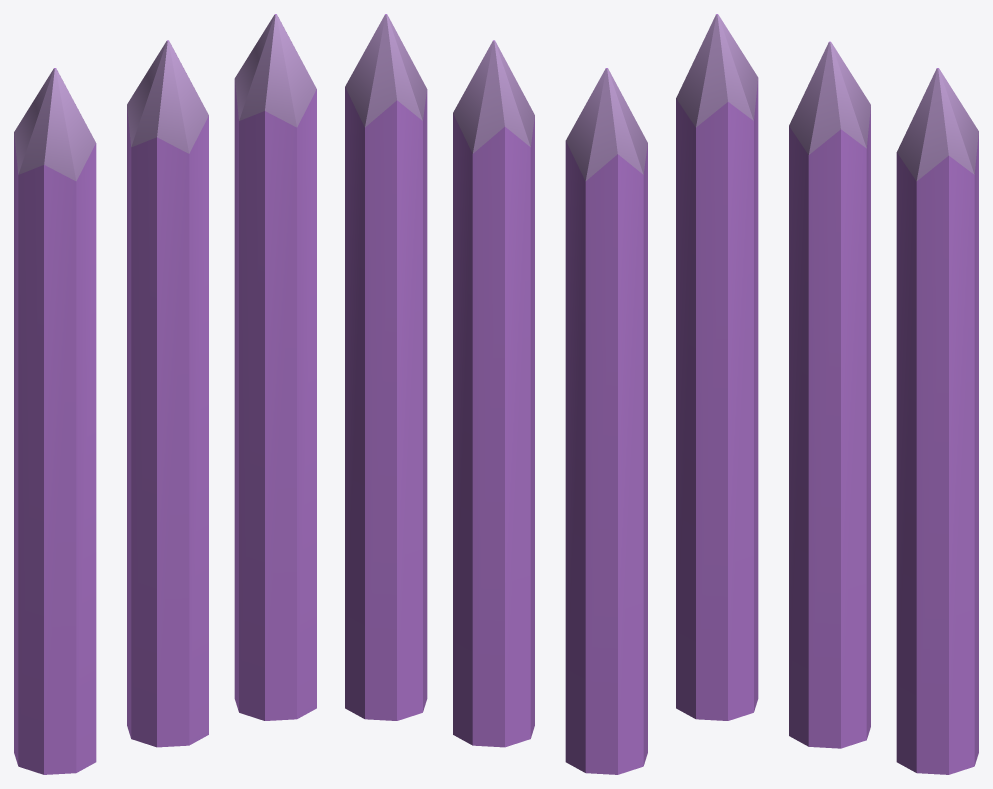
The model's file is stake.fbx.
3 renders of one model, left to right at view 1: azimuth 30°, elevation 25°; view 2: azimuth 150°, elevation 25°; view 3: azimuth 330°, elevation 25°, orthographic.
Visible parts, largest first — view 1: pCylinder4; view 2: pCylinder4; view 3: pCylinder4.
Boxes of the visible parts, x1=… form: pCylinder4: x1=14, y1=14, x2=316, y2=774; pCylinder4: x1=345, y1=14, x2=647, y2=774; pCylinder4: x1=676, y1=14, x2=978, y2=774.
Bounding box in the file's own units: 8 × 17.9 × 2.
